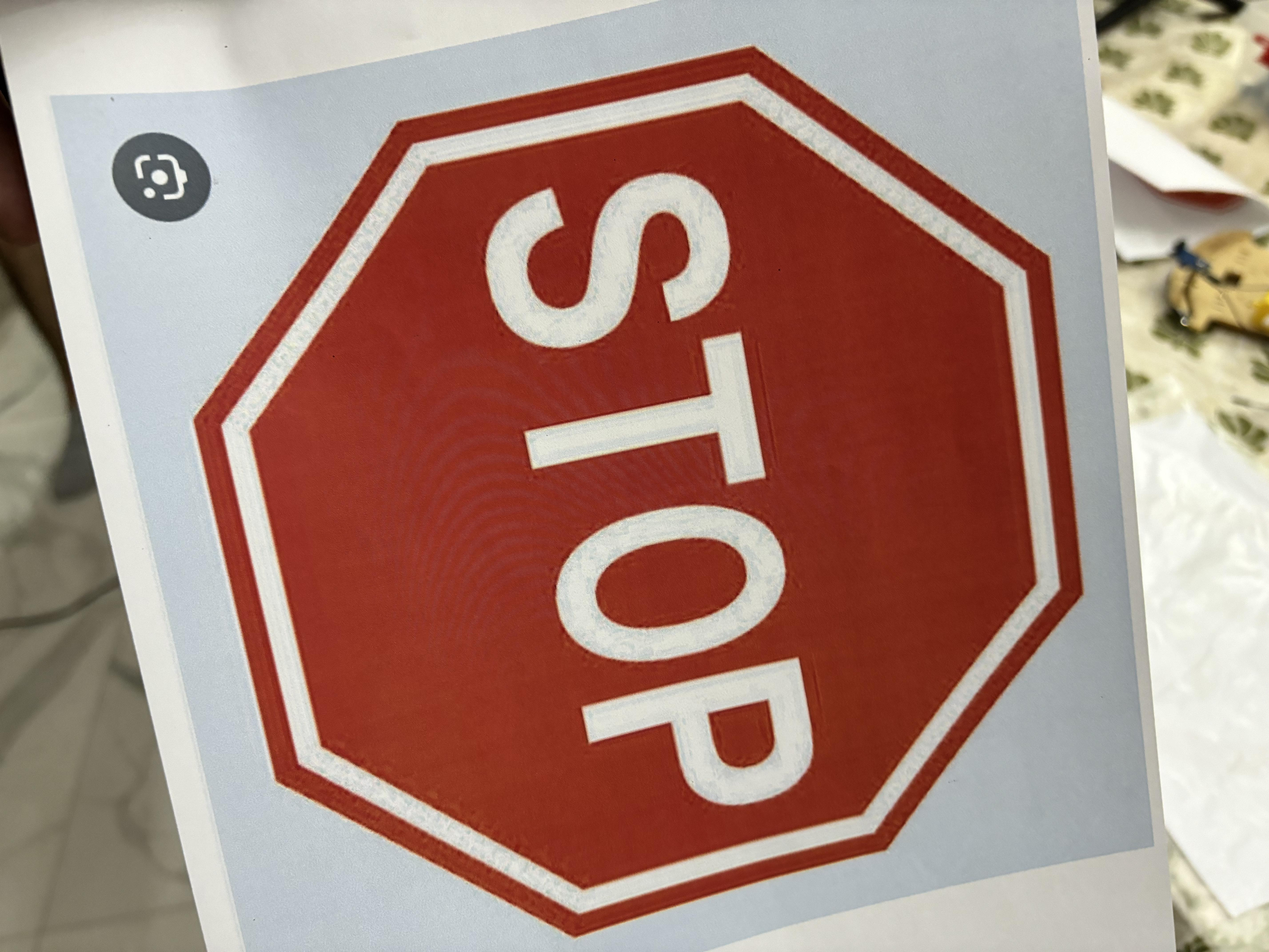Stop: (185, 40, 1089, 952)
